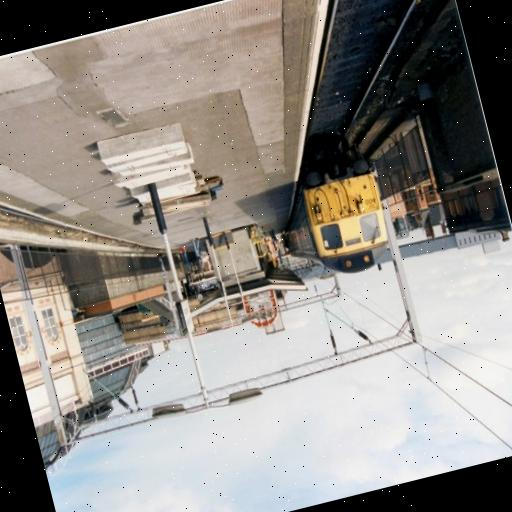platform_edge: (225, 0, 392, 195)
